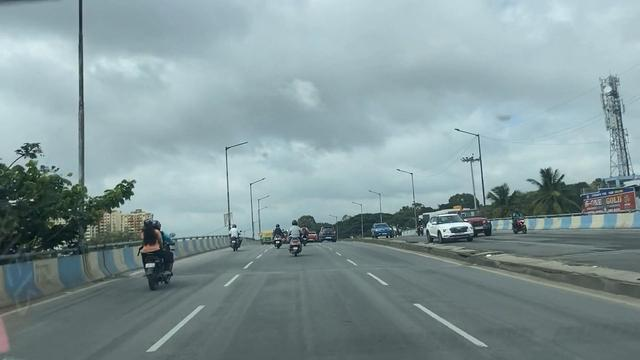LMV: (142, 216, 170, 290), (290, 219, 304, 256), (271, 221, 283, 252), (229, 223, 240, 250), (317, 225, 336, 240)
